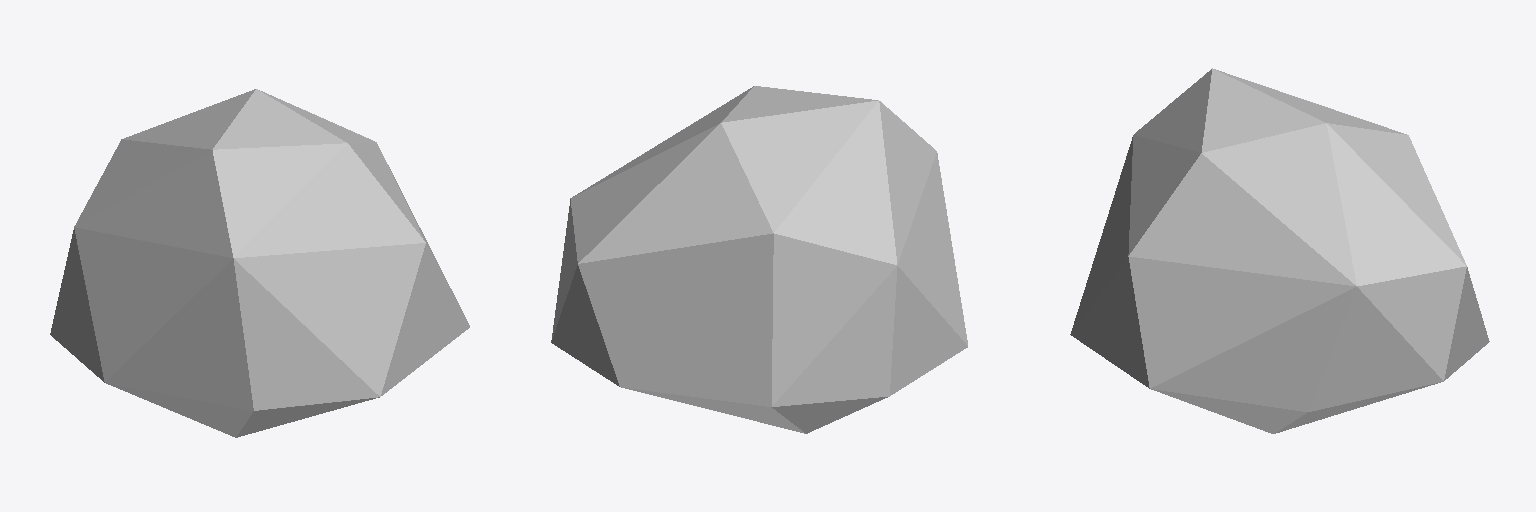
File: Rock1.obj
The picture shows the model from 3 angles: view 1: azimuth 30°, elevation 25°; view 2: azimuth 150°, elevation 25°; view 3: azimuth 270°, elevation 25°; orthographic projection.
Bounding box in the file's own units: 0.4085 × 0.3325 × 0.4218.